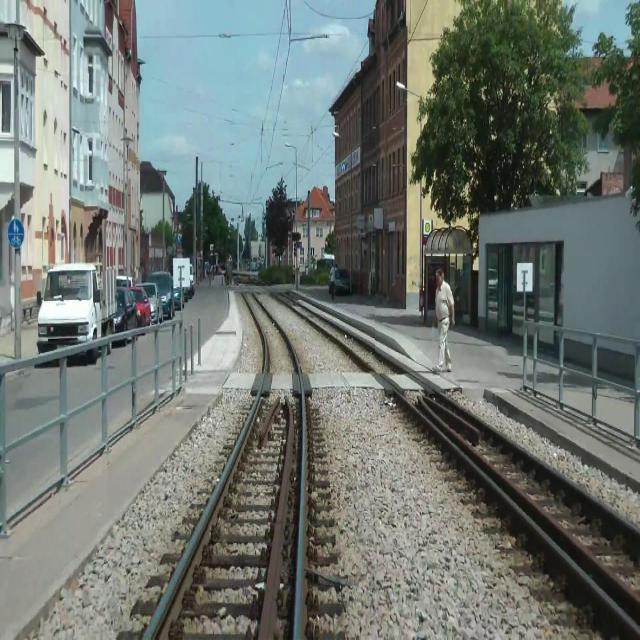rail: (110, 285, 376, 640)
